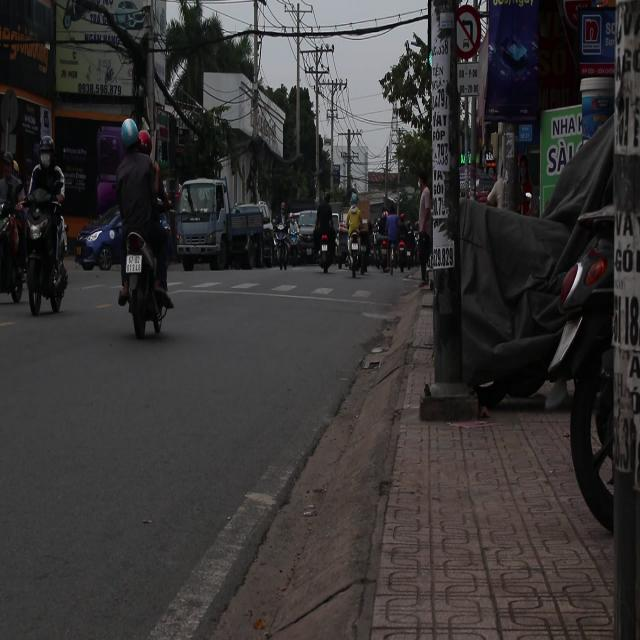car: (224, 201, 273, 270), (76, 209, 121, 271), (296, 211, 318, 246)
motorbike: (118, 221, 174, 341), (17, 199, 70, 316), (1, 198, 26, 306), (351, 230, 375, 275), (283, 218, 303, 269), (319, 227, 335, 273), (347, 230, 362, 275)
truck: (174, 179, 233, 271)
